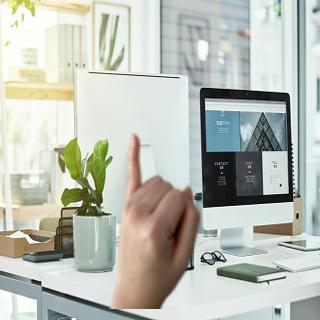Fine: (100, 118, 217, 307)
